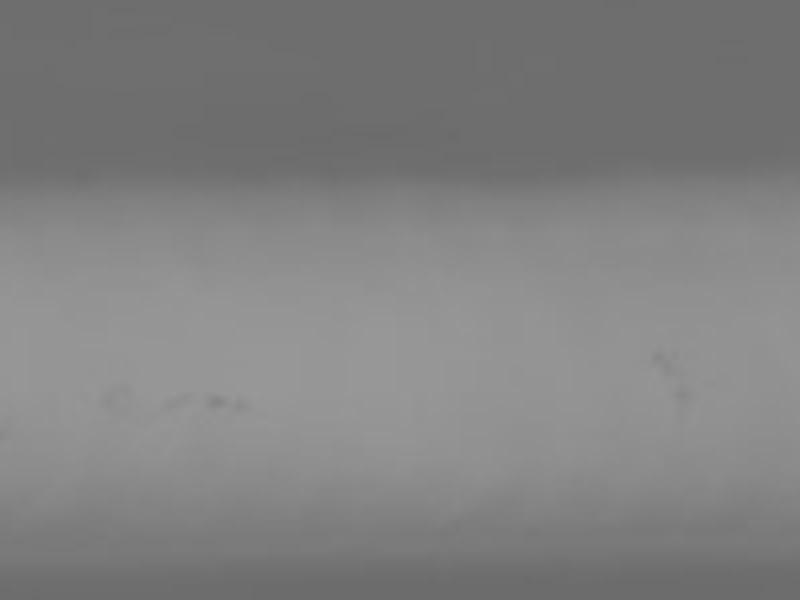defect: (670, 385, 692, 403), (165, 397, 196, 409), (205, 394, 226, 411), (229, 396, 246, 415), (660, 366, 677, 379), (649, 351, 663, 365)
